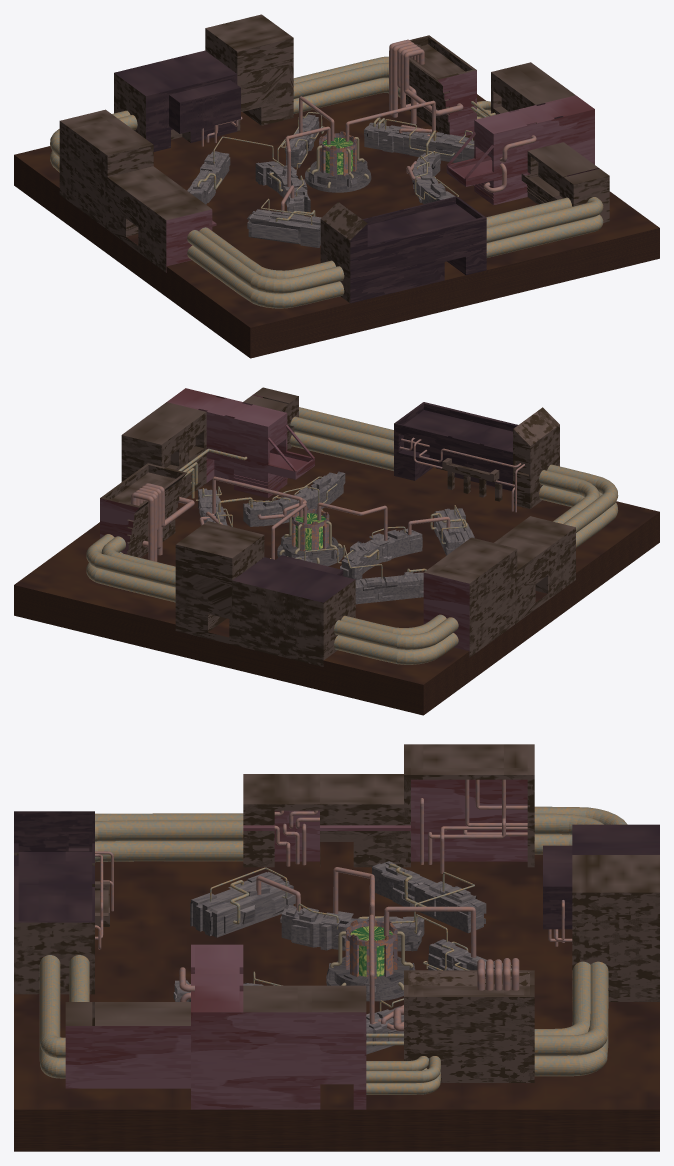
The picture shows the model from 3 angles, top to bottom: view 1: azimuth 30°, elevation 25°; view 2: azimuth 150°, elevation 25°; view 3: azimuth 270°, elevation 25°; orthographic projection. The views are drawn at different scales.
Parts seen in each view (by area): view 1: 地板, 外牆水管3, 大樓2, 大樓4, 大樓1, 大樓5, 牆壁1, 裝飾水管10.052, 大樓3, 中心柱底盤1, 中心柱外殼, 中心柱發光; view 2: 地板, 外牆水管3, 大樓2, 大樓4, 大樓1, 大樓5, 牆壁1, 裝飾水管10.052, 大樓3, 中心柱底盤1, 中心柱外殼, 中心柱發光; view 3: 地板, 大樓4, 大樓1, 外牆水管3, 大樓2, 大樓5, 大樓3, 牆壁1, 裝飾水管10.052, 中心柱外殼, 中心柱底盤1, 中心柱發光.
Boxes of the visible parts, left/top/right/bottom form: 地板: left=14, top=93, right=659, bottom=358; 外牆水管3: left=50, top=56, right=603, bottom=308; 大樓2: left=114, top=14, right=293, bottom=151; 大樓4: left=446, top=62, right=609, bottom=223; 大樓1: left=59, top=109, right=216, bottom=272; 大樓5: left=320, top=196, right=486, bottom=303; 牆壁1: left=187, top=114, right=474, bottom=247; 裝飾水管10.052: left=201, top=39, right=536, bottom=213; 大樓3: left=406, top=35, right=476, bottom=136; 中心柱底盤1: left=305, top=160, right=371, bottom=192; 中心柱外殼: left=319, top=131, right=356, bottom=175; 中心柱發光: left=322, top=137, right=352, bottom=174; 地板: left=14, top=446, right=659, bottom=715; 外牆水管3: left=86, top=407, right=618, bottom=664; 大樓2: left=175, top=521, right=355, bottom=666; 大樓4: left=121, top=387, right=314, bottom=503; 大樓1: left=423, top=516, right=575, bottom=657; 大樓5: left=394, top=402, right=559, bottom=508; 牆壁1: left=198, top=471, right=474, bottom=604; 裝飾水管10.052: left=131, top=437, right=524, bottom=561; 大樓3: left=100, top=463, right=187, bottom=557; 中心柱底盤1: left=277, top=535, right=343, bottom=566; 中心柱外殼: left=291, top=507, right=329, bottom=551; 中心柱發光: left=295, top=513, right=325, bottom=550; 地板: left=14, top=842, right=659, bottom=1151; 大樓4: left=65, top=944, right=366, bottom=1109; 大樓1: left=243, top=744, right=534, bottom=867; 外牆水管3: left=39, top=806, right=627, bottom=1094; 大樓2: left=543, top=824, right=659, bottom=1001; 大樓5: left=14, top=811, right=109, bottom=994; 大樓3: left=404, top=970, right=534, bottom=1082; 牆壁1: left=173, top=861, right=511, bottom=1054; 裝飾水管10.052: left=95, top=779, right=572, bottom=1031; 中心柱外殼: left=345, top=920, right=397, bottom=978; 中心柱底盤1: left=326, top=955, right=415, bottom=1001; 中心柱發光: left=350, top=926, right=392, bottom=976.
Bounding box in the file's own units: 7503 × 7504 × 1937.
